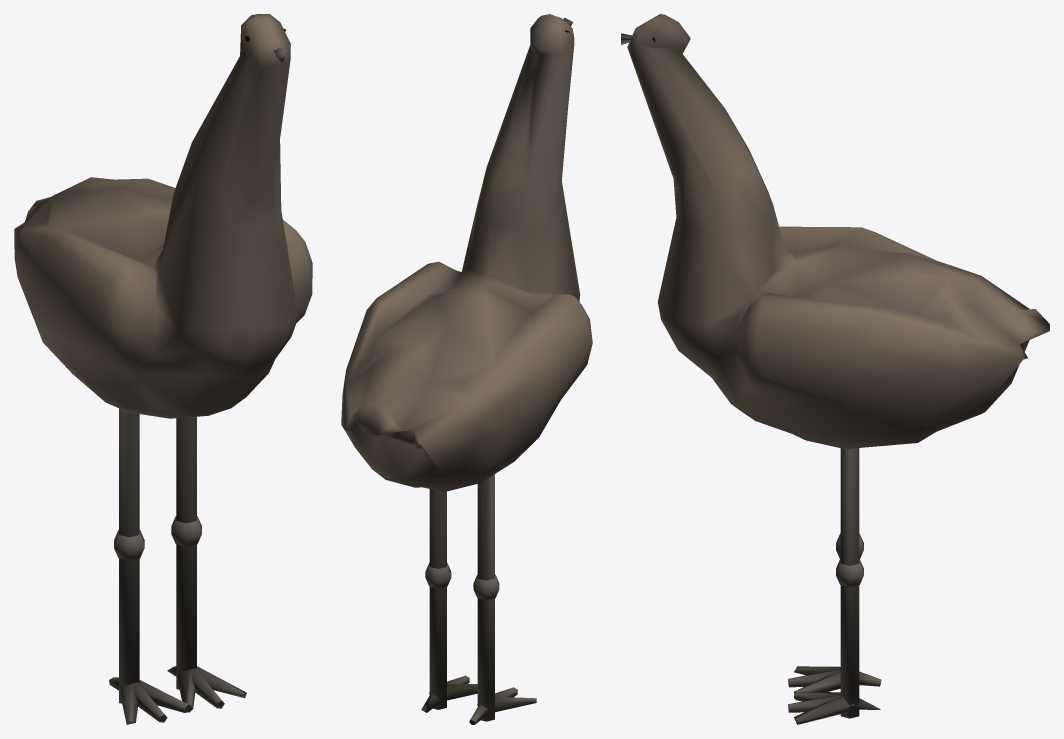
Rendered from emu.glb.
3 renders of one model, left to right at view 1: azimuth 30°, elevation 25°; view 2: azimuth 150°, elevation 25°; view 3: azimuth 270°, elevation 25°, orthographic. The views are drawn at different scales.
Parts seen in each view (by area): view 1: lack; view 2: lack; view 3: lack.
Part boxes in pixels (x1,y1,x2,y2): lack: (14, 14, 312, 724); lack: (341, 14, 592, 724); lack: (621, 14, 1049, 724).
Bounding box in the file's own units: 0.5862 × 1.92 × 1.09.
